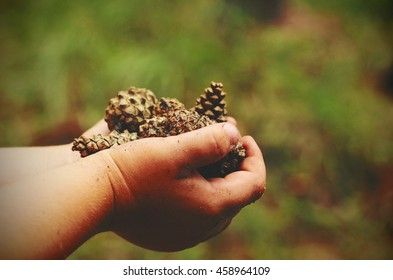Pc: (99, 89, 158, 133), (194, 79, 228, 124)
